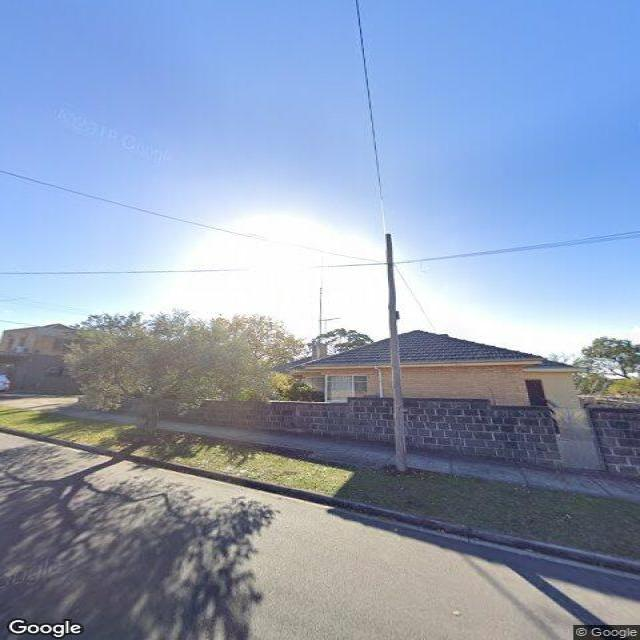timber-pole: (383, 230, 412, 474)
